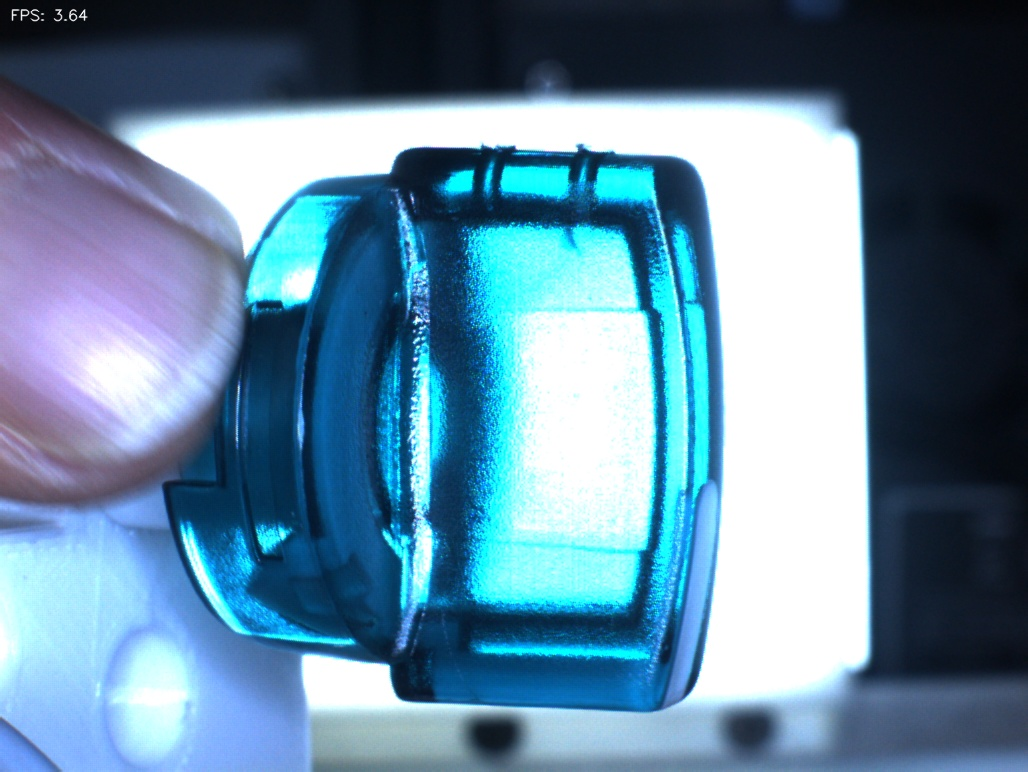Bulle: (534, 168, 619, 250)
